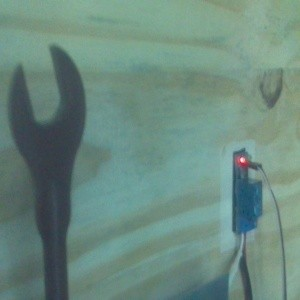spanner: (8, 43, 87, 300)
